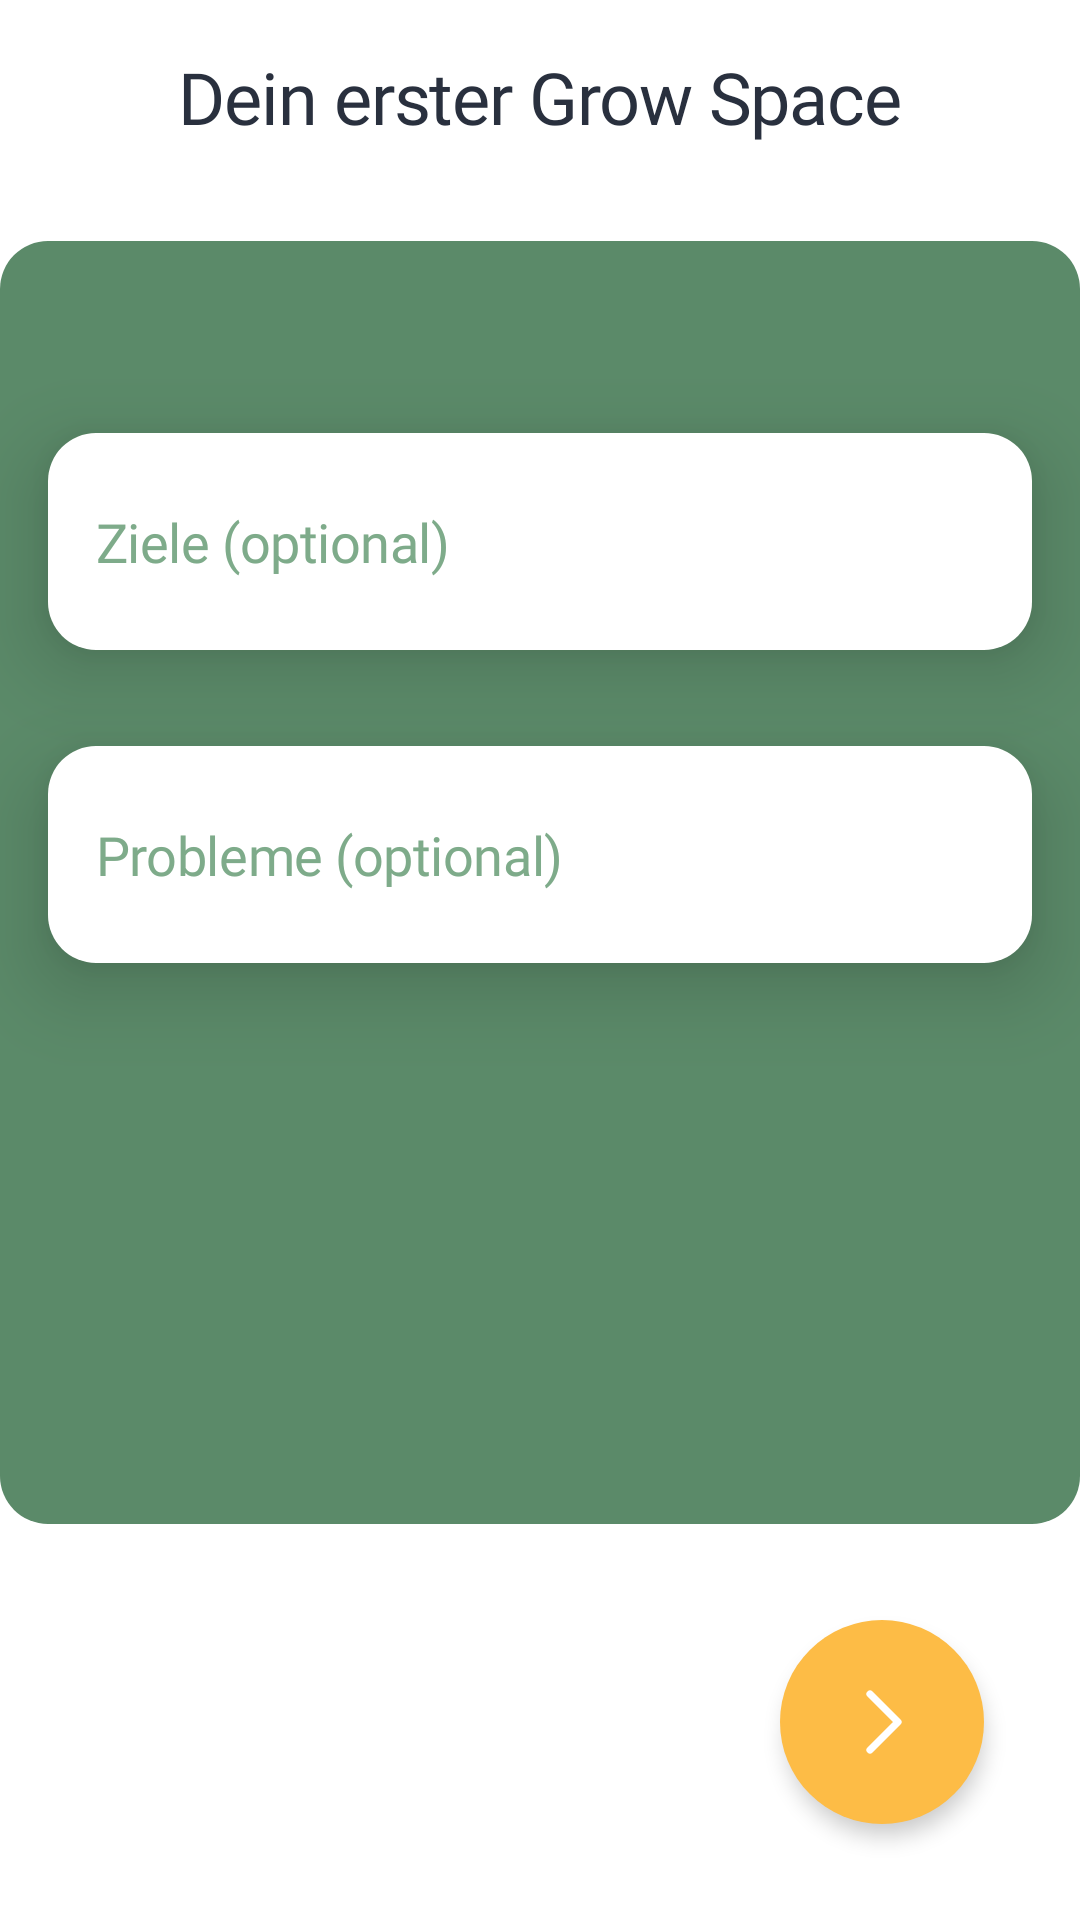

Icons on this 1080×1920 Android screen, each with the point to tap as (x=x, y=y):
right: (x=882, y=1722)
